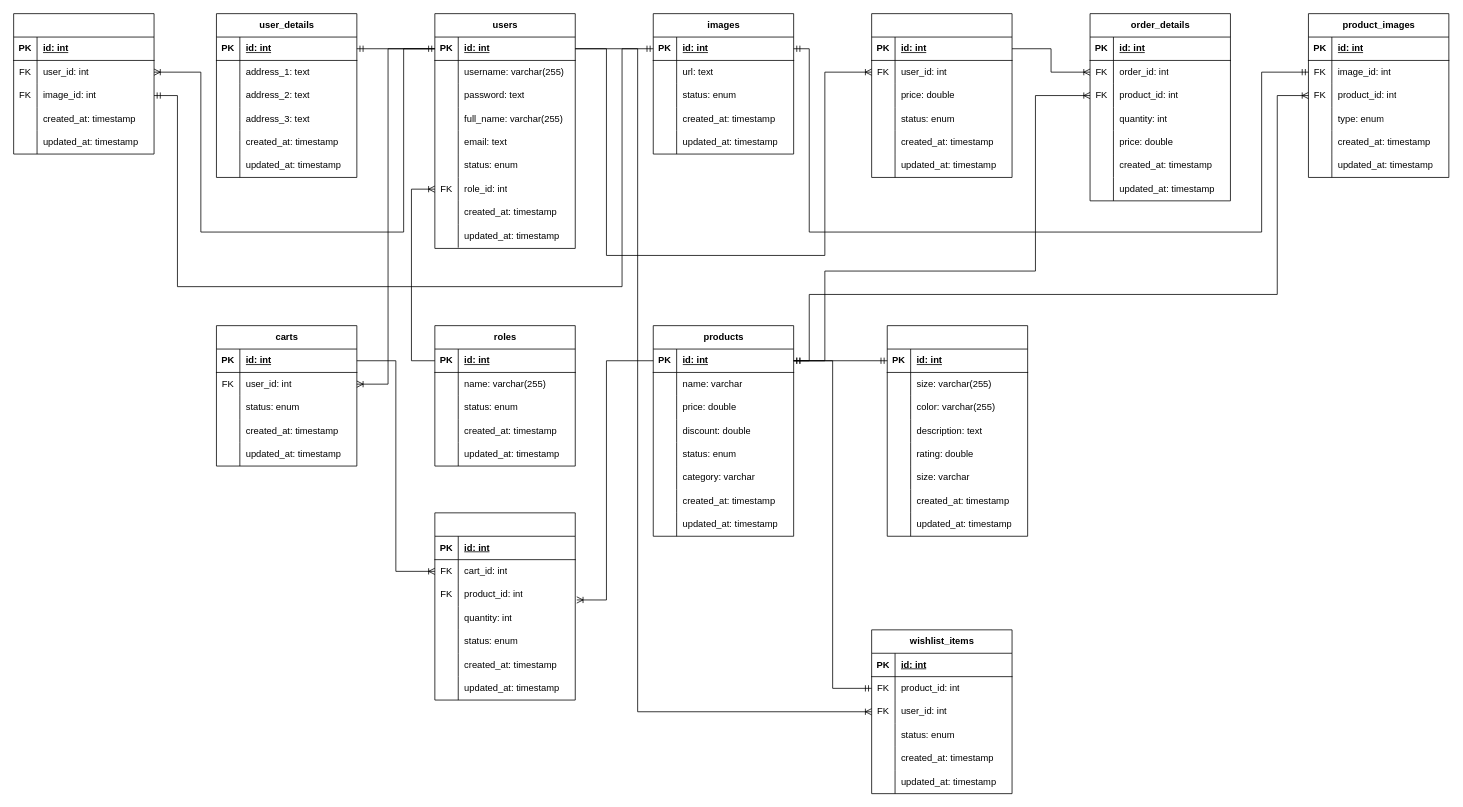
Some shapes in this 1463 by 807 pixel diagram are drawn without their labels. The box of each missing label's shape, as (x1, y1, x2, y2) in pixels:
cart_details: (434, 512, 575, 700)
orders: (871, 13, 1012, 177)
product_details: (886, 325, 1028, 536)
user_images: (13, 13, 154, 154)
